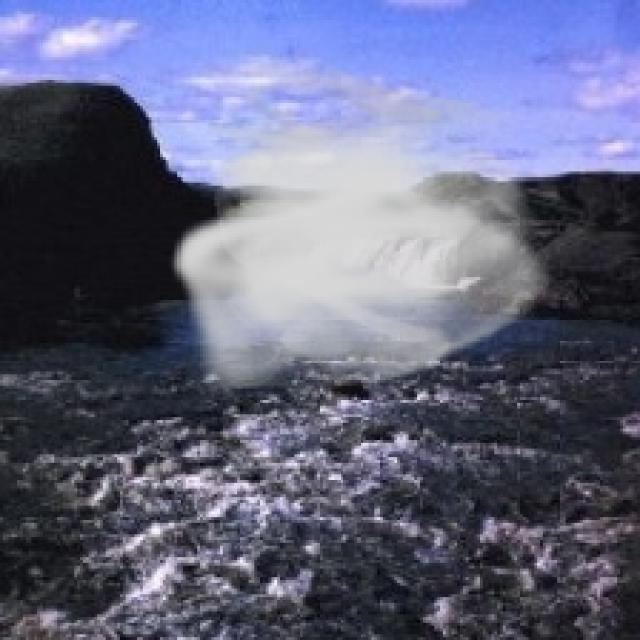smoke: (169, 57, 560, 400)
